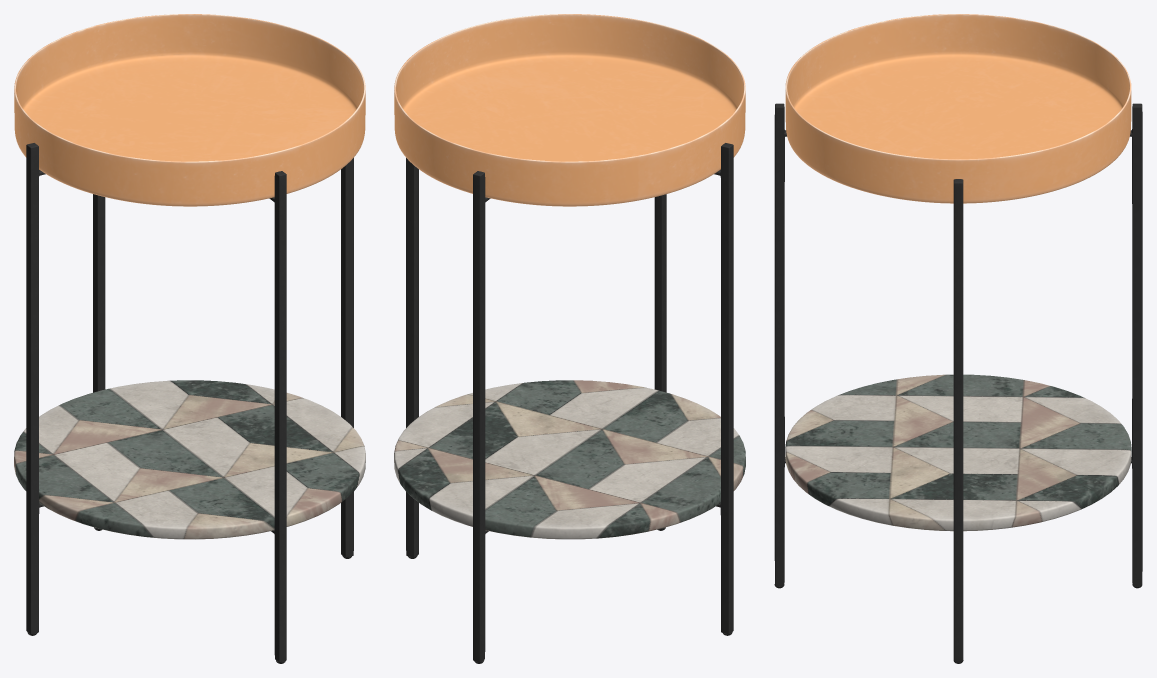
Rendered from brownBlack.glb.
3 views of the same model, side by side, from view 1: azimuth 30°, elevation 25°; view 2: azimuth 150°, elevation 25°; view 3: azimuth 270°, elevation 25° (orthographic).
Parts seen in each view (by area): view 1: Mesh.002; view 2: Mesh.002; view 3: Mesh.002.
Part boxes in pixels (x1=…): Mesh.002: x1=14, y1=14, x2=365, y2=663; Mesh.002: x1=394, y1=14, x2=745, y2=663; Mesh.002: x1=774, y1=14, x2=1142, y2=663.
Bounding box in the file's own units: 37.19 × 55.84 × 37.18.
Materials: 1 (1 with a texture image).
